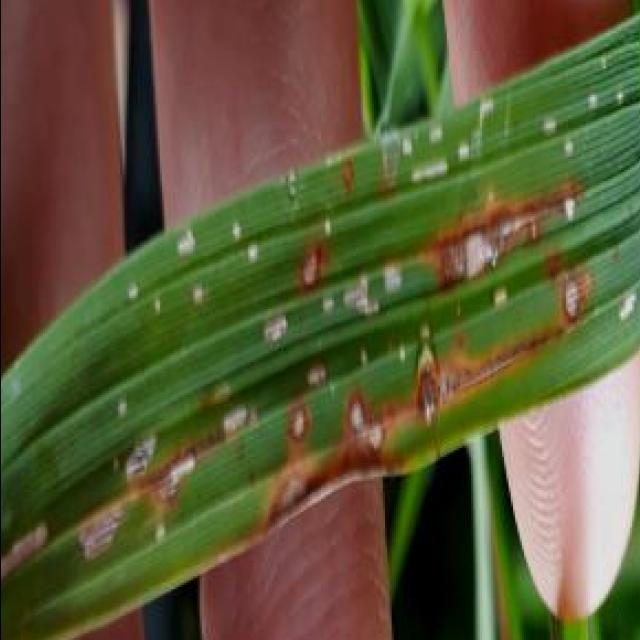Leaf_Blast: (248, 431, 400, 538), (508, 247, 610, 351), (424, 203, 530, 298), (137, 448, 221, 558), (278, 228, 351, 316), (90, 419, 176, 492), (70, 488, 124, 574), (0, 512, 51, 598), (260, 390, 324, 452), (194, 404, 264, 457), (312, 388, 378, 439), (386, 376, 444, 430), (342, 422, 400, 464), (466, 278, 518, 320)
